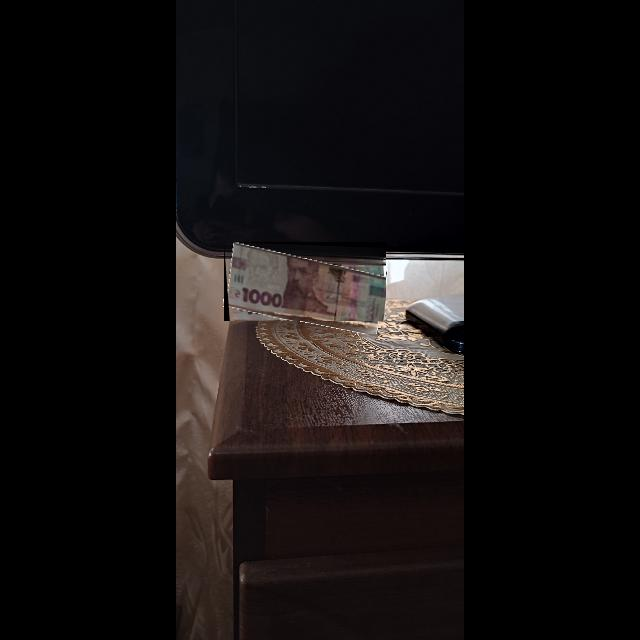1000uah: (228, 243, 387, 322)
